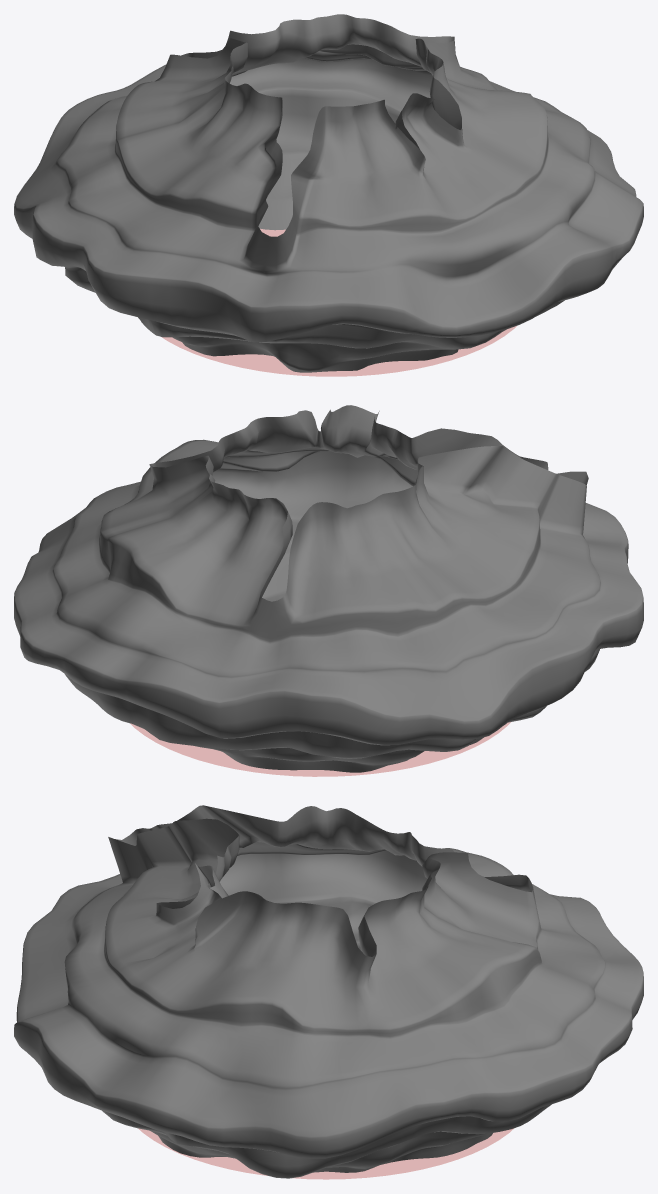
Rendered from Main-hall-Cave.fbx.
3 views of the same model, one above another, from view 1: azimuth 30°, elevation 25°; view 2: azimuth 150°, elevation 25°; view 3: azimuth 270°, elevation 25° (orthographic). The views are drawn at different scales.
Parts seen in each view (by area): view 1: Main-hall-walls, Main-hall-floor; view 2: Main-hall-walls, Main-hall-floor; view 3: Main-hall-walls, Main-hall-floor.
Boxes of the visible parts, left/top/right/bottom form: Main-hall-walls: left=14, top=14, right=643, bottom=372; Main-hall-floor: left=161, top=228, right=516, bottom=376; Main-hall-walls: left=14, top=405, right=643, bottom=772; Main-hall-floor: left=130, top=722, right=510, bottom=776; Main-hall-walls: left=14, top=805, right=643, bottom=1178; Main-hall-floor: left=138, top=1128, right=513, bottom=1179.
Size of the model in its own units: 10552 by 4354 by 10351.
